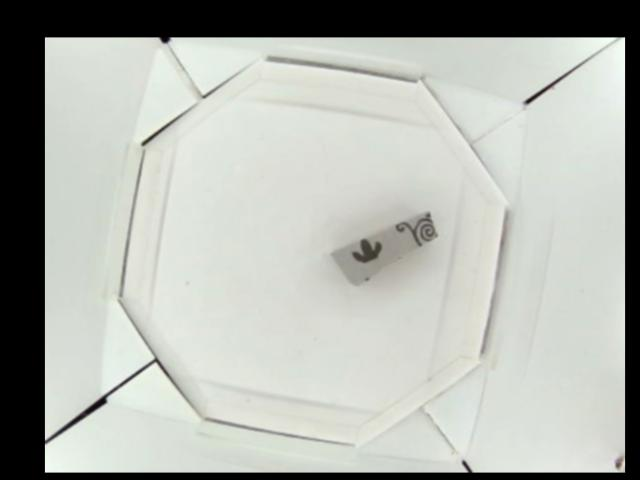China: (329, 209, 437, 284)
